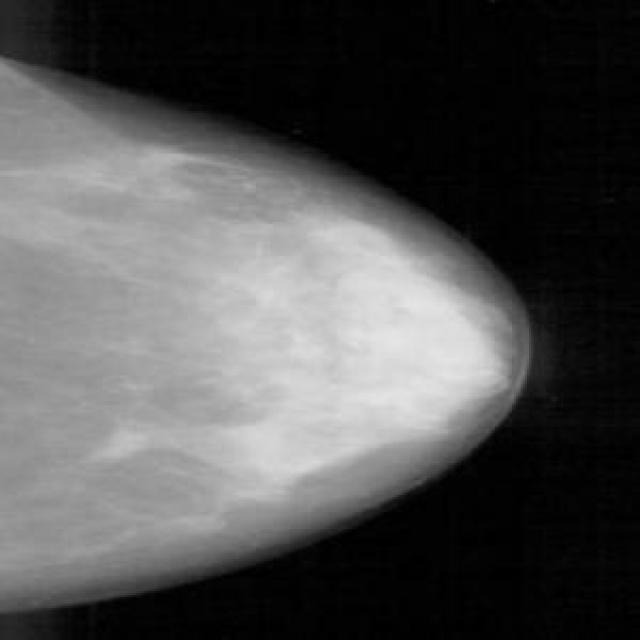tumor: (198, 213, 436, 497)
